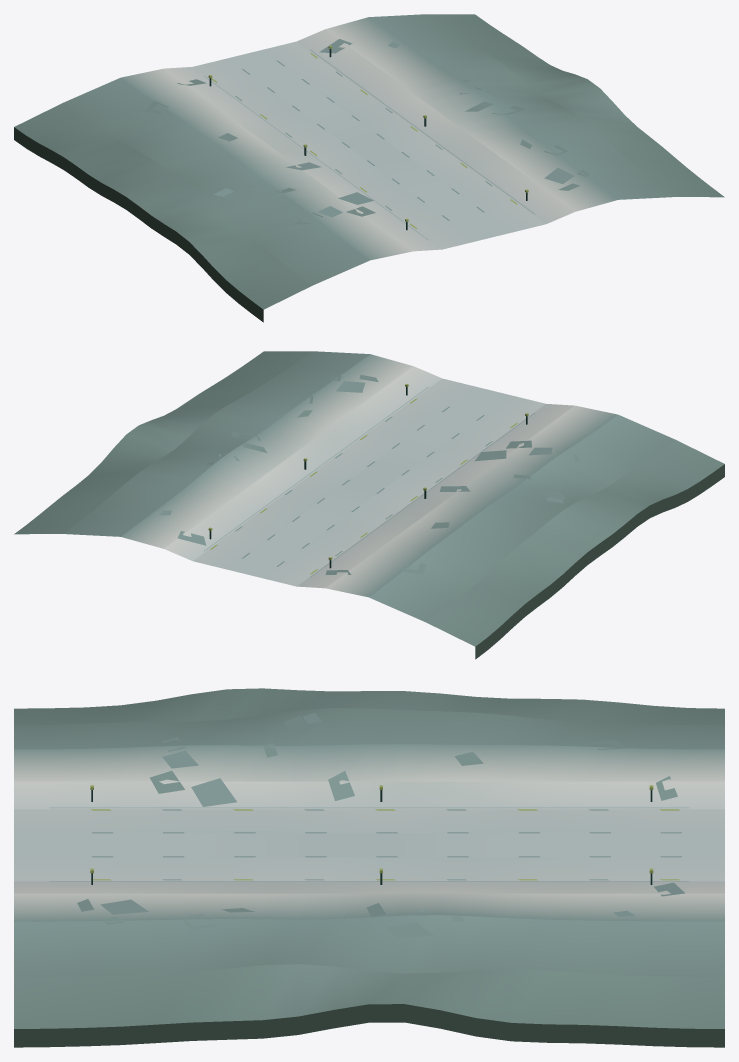
The model's file is 01-straight.glb.
3 renders of one model, top to bottom at view 1: azimuth 30°, elevation 25°; view 2: azimuth 150°, elevation 25°; view 3: azimuth 270°, elevation 25°, orthographic. The views are drawn at different scales.
Parts seen in each view (by area): view 1: straight; view 2: straight; view 3: straight.
Boxes of the visible parts, x1=… form: straight: x1=14, y1=14, x2=724, y2=322; straight: x1=14, y1=351, x2=724, y2=659; straight: x1=14, y1=688, x2=724, y2=1047.
Bounding box in the file's own units: 32 × 2.76 × 30.
